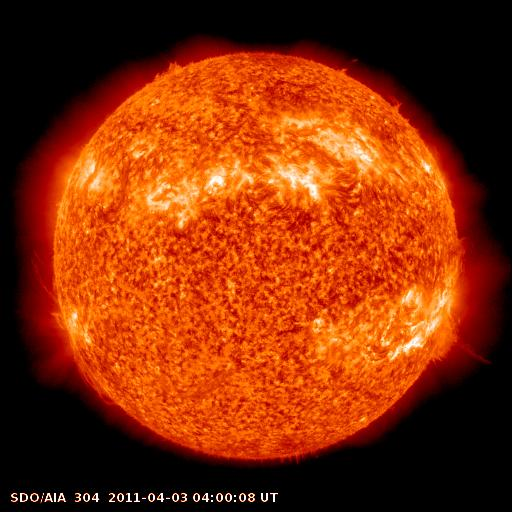prominence: (420, 299, 497, 375), (66, 348, 127, 414), (22, 245, 69, 305), (144, 54, 192, 89), (386, 87, 416, 131)
